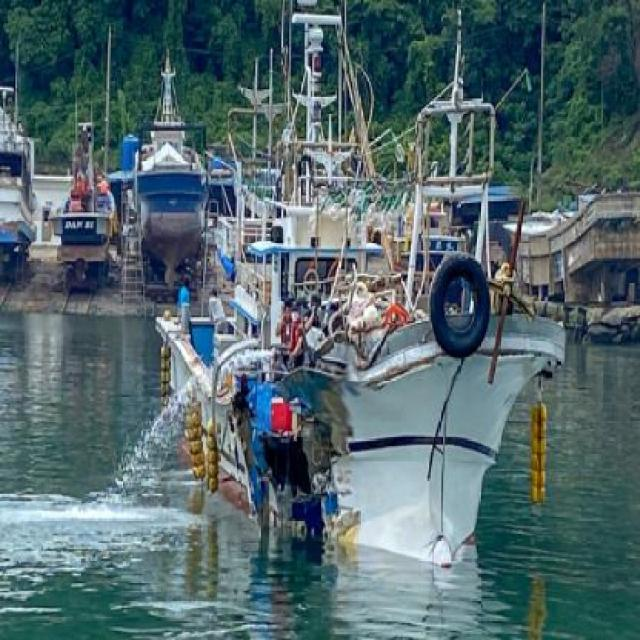fish-b: (152, 121, 576, 584)
